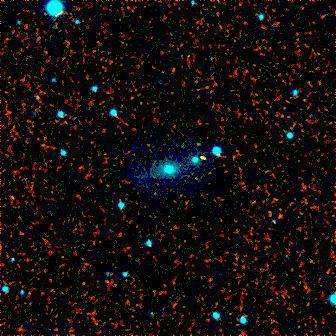star: (184, 140, 214, 170)
